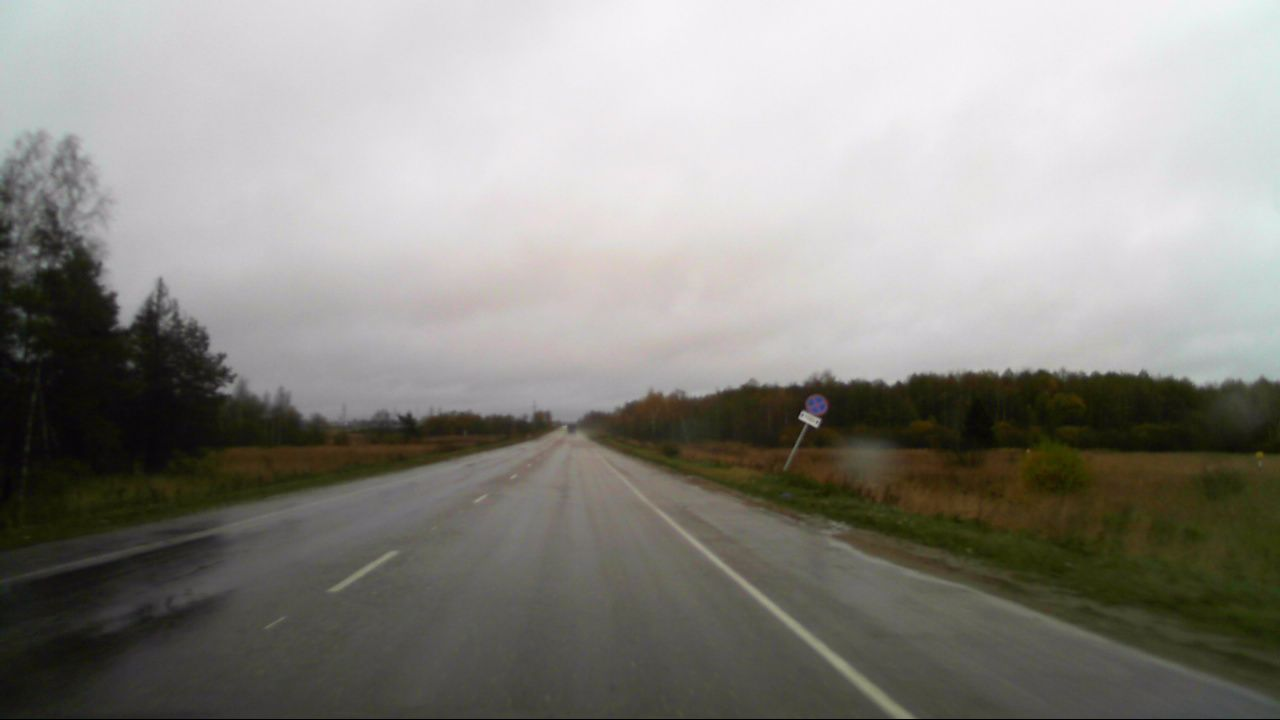No Parking: (804, 393, 829, 416)
